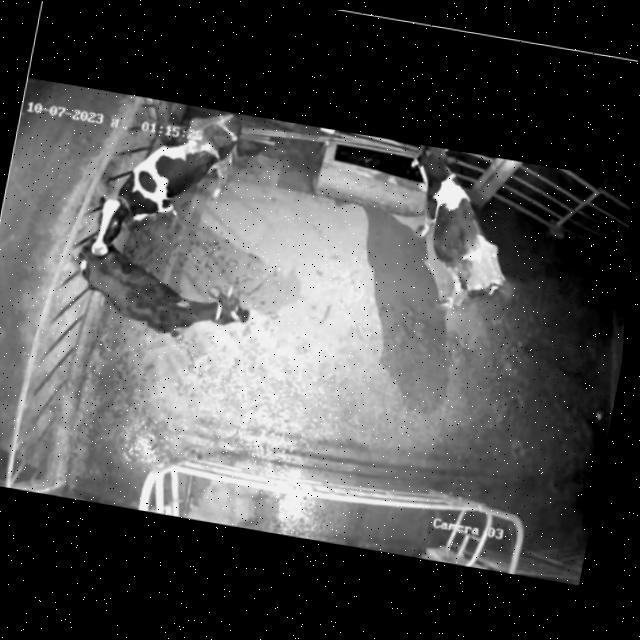drink: (384, 141, 476, 225)
propping: (71, 179, 147, 294)
stand: (52, 232, 278, 372)
